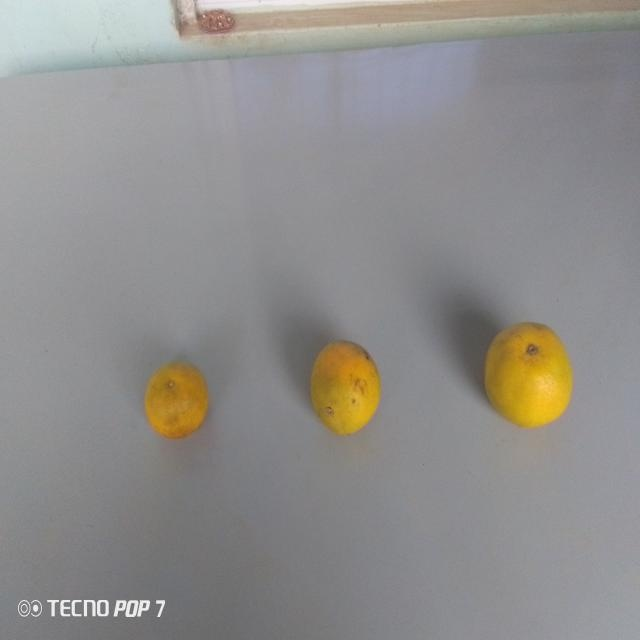agrume: (478, 315, 578, 435), (302, 332, 394, 442), (140, 363, 214, 441)
